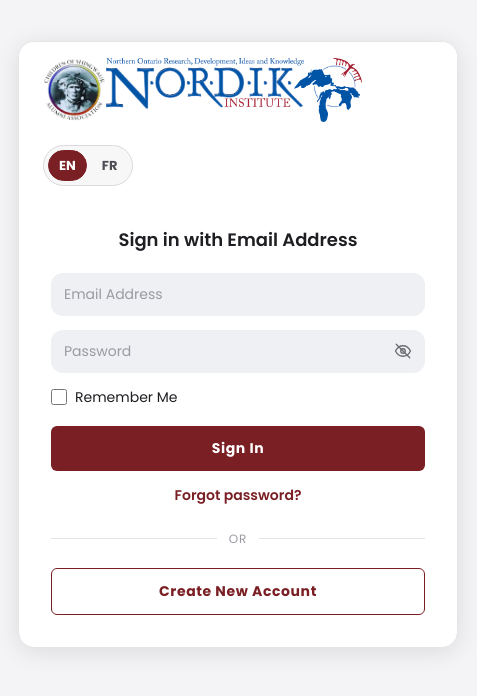
Test case: LoginPage › submits successfully with valid credentials
In the field with placeholder "Email Address": (238, 294) [52, 274, 424, 314], type "user@example.com"
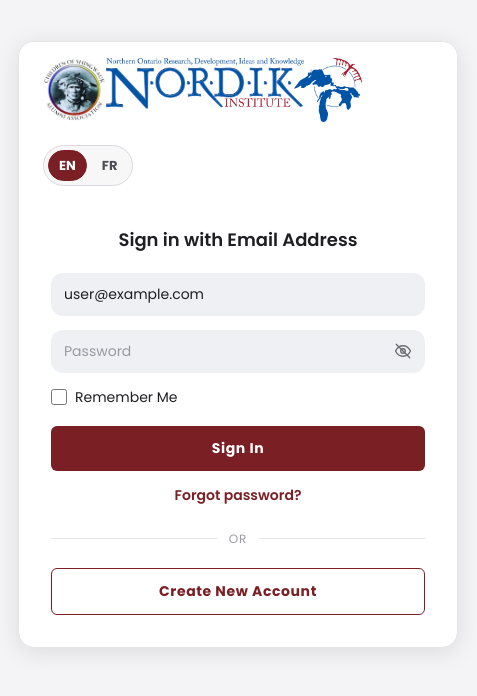
In the password field with placeholder "Password": (238, 351) [52, 330, 424, 372], type "Password123!"
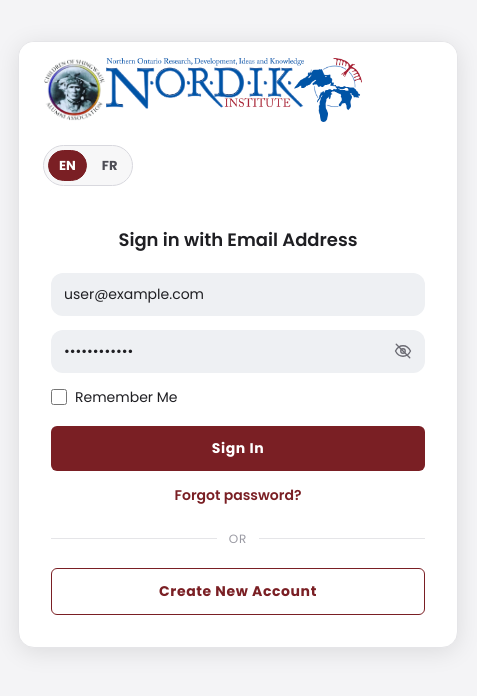
Click the button "Sign In": click(238, 448) [51, 426, 425, 470]
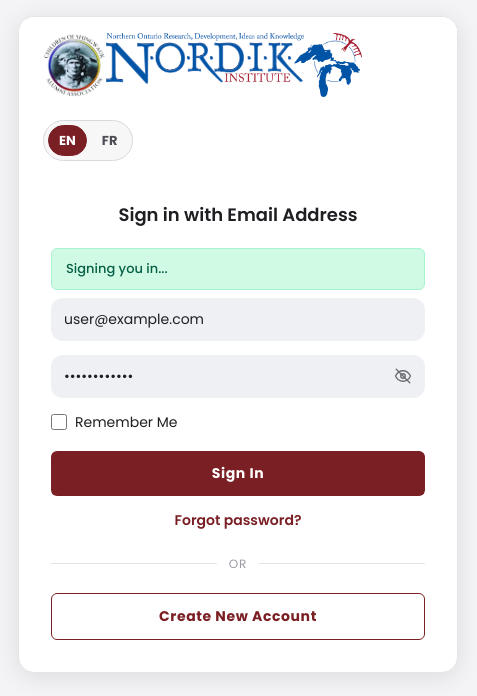
Expected: the message "Signing you in..." is shown, [51, 248, 425, 290]
Expected: the message shows "Signing you in", [66, 259, 168, 278]
